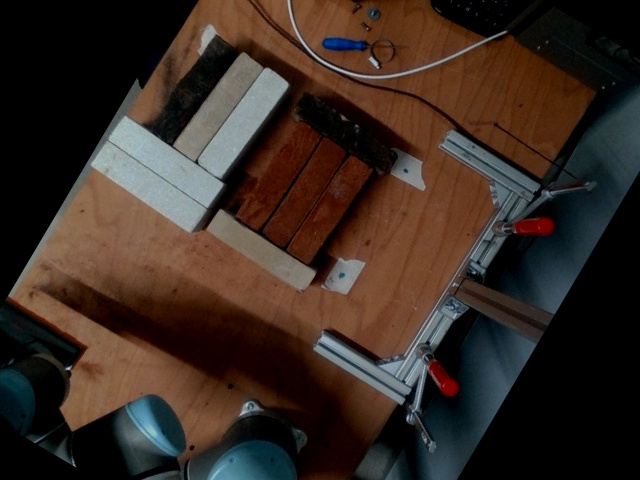brick-side: (195, 65, 289, 179), (90, 140, 206, 231), (108, 115, 222, 207), (172, 50, 263, 162), (284, 153, 372, 263), (288, 89, 399, 176), (150, 34, 239, 142), (203, 207, 315, 292), (236, 120, 322, 230), (260, 137, 346, 246)
